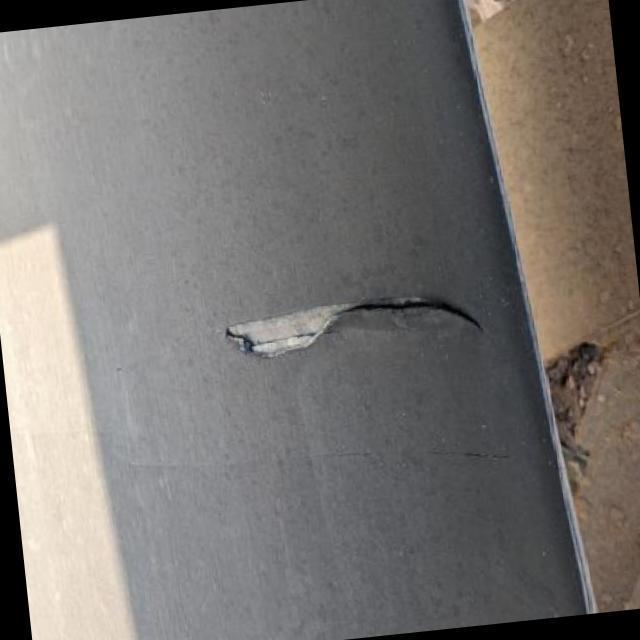Tear: (223, 286, 489, 364)
